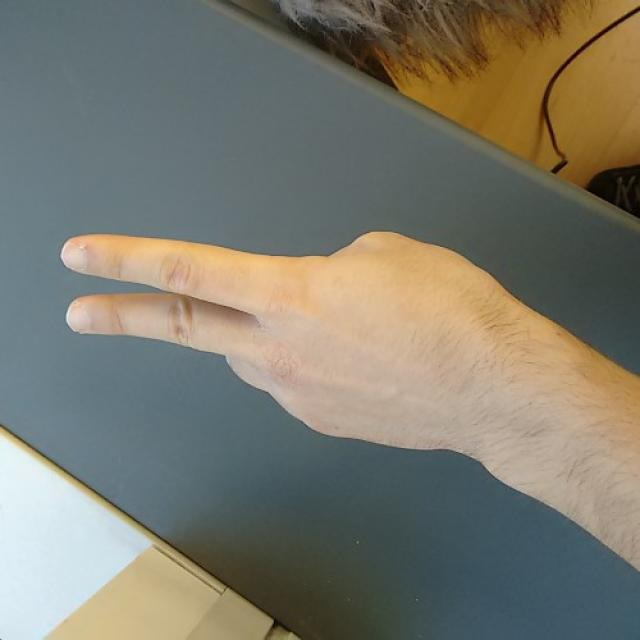scissors: (61, 225, 442, 449)
